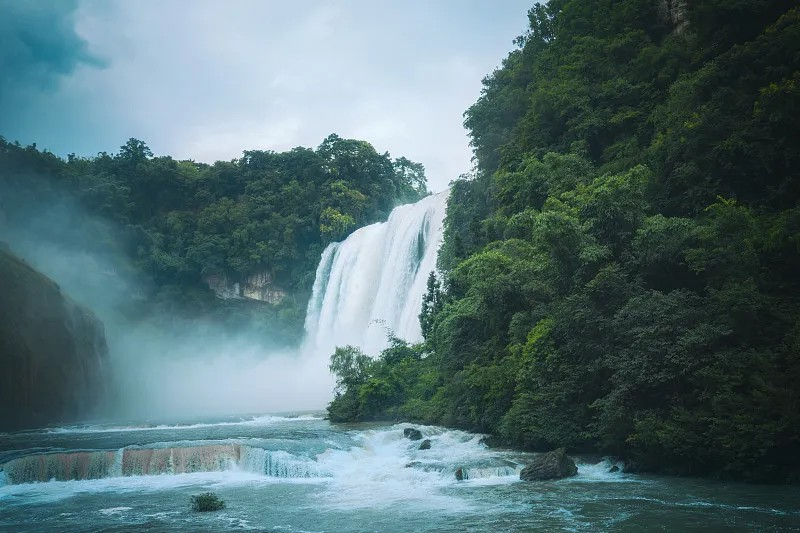Huangguoshu: (301, 185, 445, 408)
